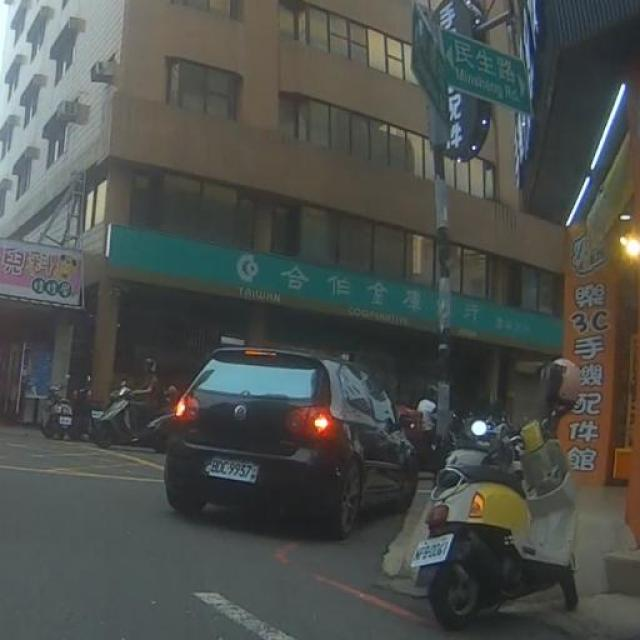Legalparking: (411, 359, 578, 629)
illegalparking: (165, 348, 418, 539)
